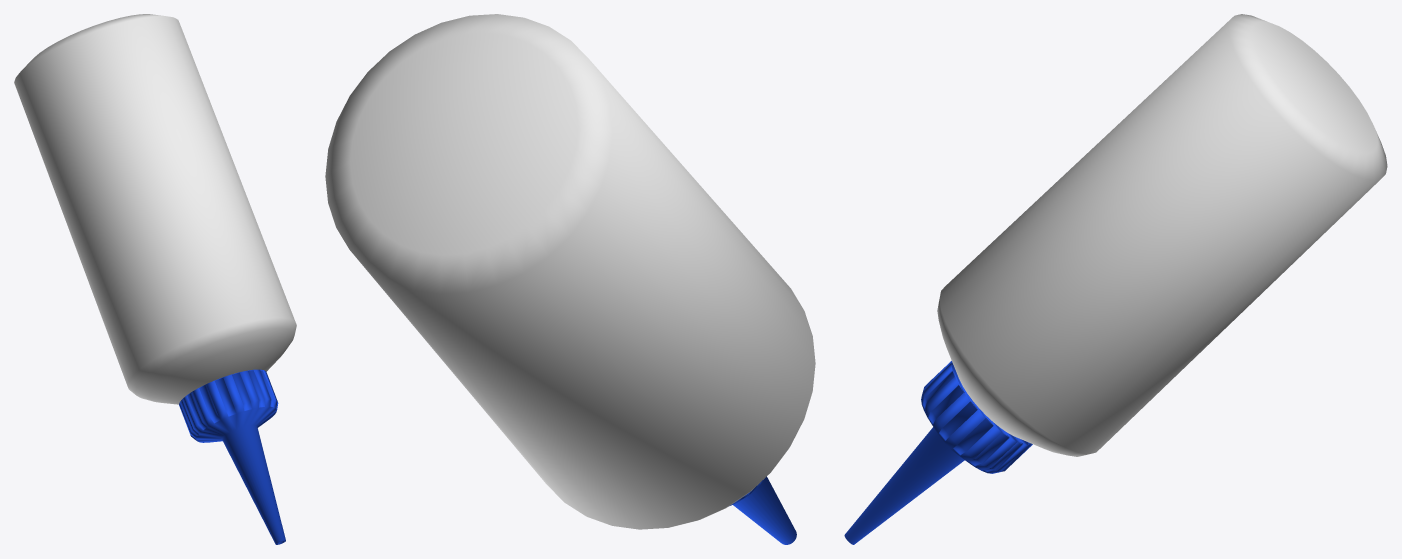
The model's file is LiceBottle.fbx.
3 views of the same model, side by side, from view 1: azimuth 30°, elevation 25°; view 2: azimuth 150°, elevation 25°; view 3: azimuth 270°, elevation 25° (orthographic). The views are drawn at different scales.
Parts seen in each view (by area): view 1: Boca; view 2: Boca; view 3: Boca.
Boxes of the visible parts, x1,y1,x2,y2 form: Boca: [14, 14, 296, 544]; Boca: [325, 14, 815, 544]; Boca: [844, 14, 1387, 544].
Bounding box in the file's own units: 60.51 × 153 × 146.
